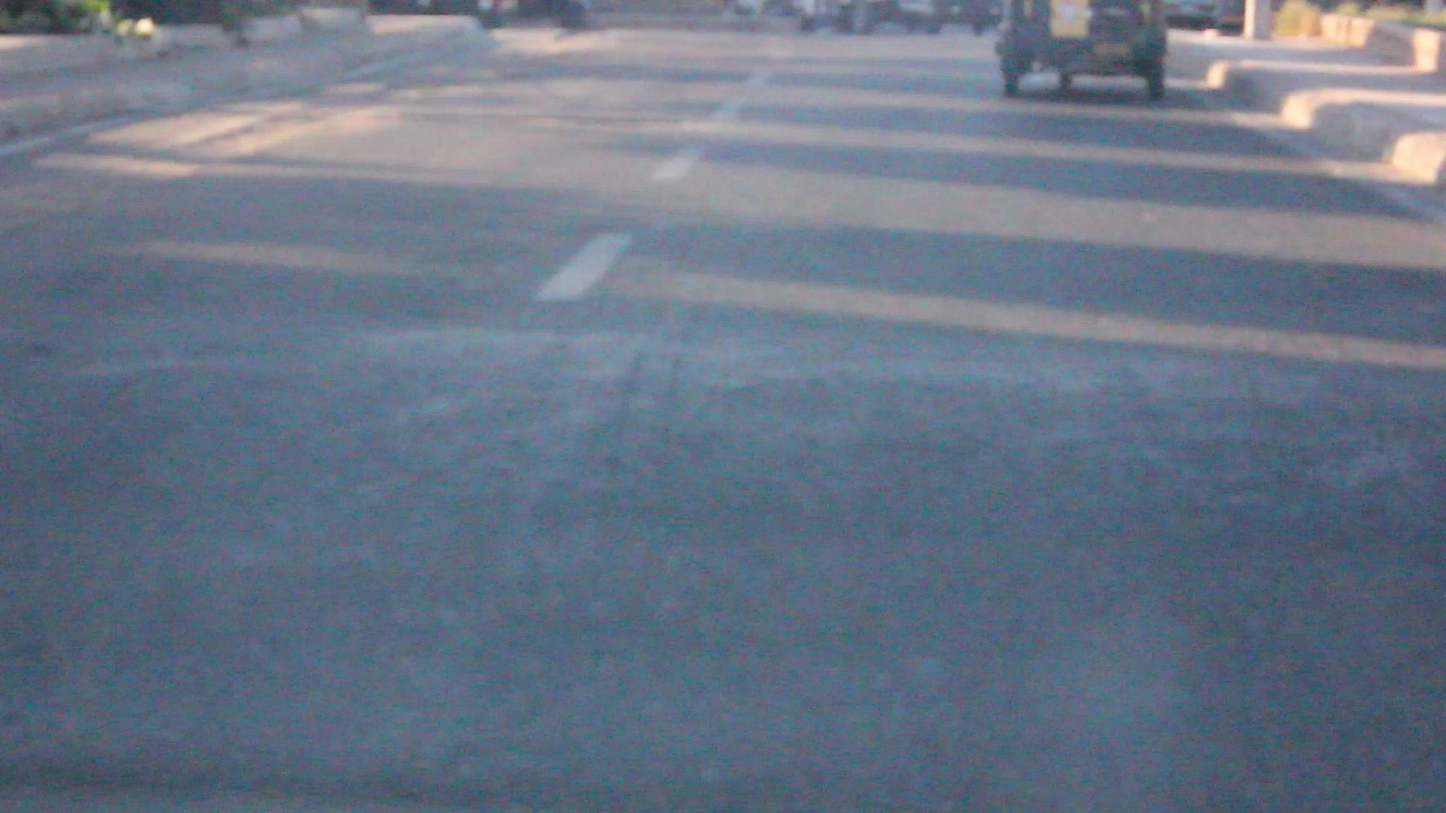Bump: (15, 346, 1446, 783)
